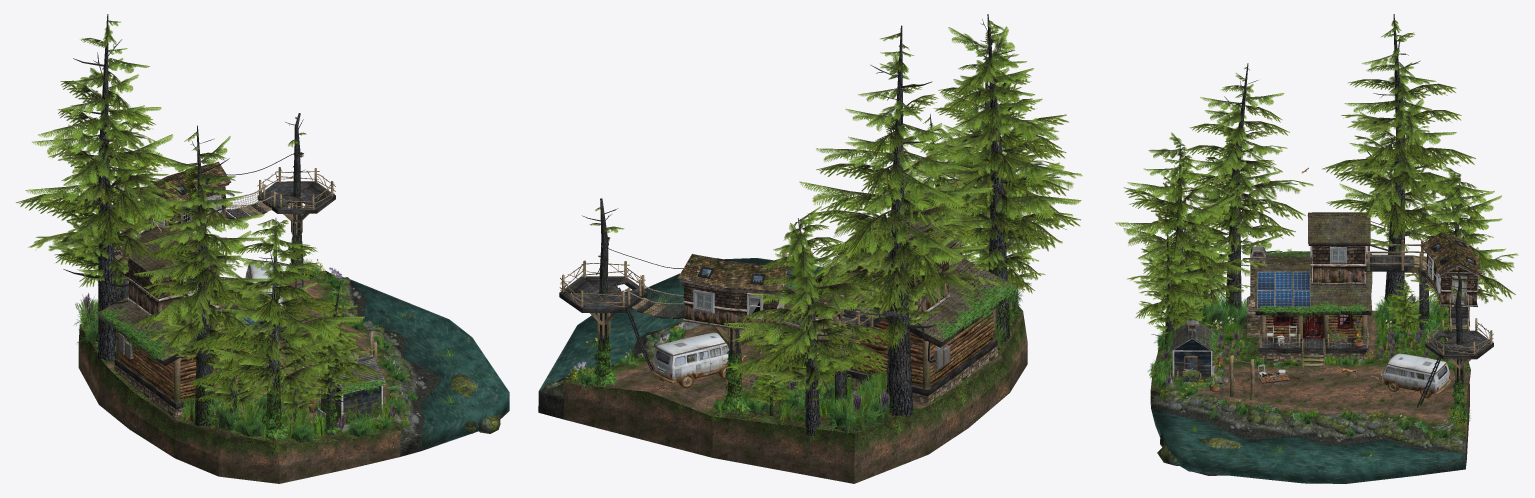
File: dae_diorama_-_forest_loner.glb
3 views of the same model, side by side, from view 1: azimuth 30°, elevation 25°; view 2: azimuth 150°, elevation 25°; view 3: azimuth 270°, elevation 25° (orthographic). The views are drawn at different scales.
Visible parts, largest first — view 1: pine_tree_leaf, land.002, river, pine_tree_bark, grass_4, wood_floor, roof_1, rock, vine_1, shed, trim_house, wood_pillar (+8 smaller); view 2: pine_tree_leaf, land.002, pine_tree_bark, grass_4, river, wood_floor, trim_house, wood_pillar, roof_1, wood_wall, mini_van, roof_2 (+7 smaller); view 3: pine_tree_leaf, land.002, river, grass_4, pine_tree_bark, roof_1, doors_windows, wood_floor, rock, flowers, wood_pillar, trim_house (+7 smaller).
Part boxes in pixels (bbox=[...]): pine_tree_leaf: bbox=[16, 20, 381, 413]; land.002: bbox=[78, 271, 508, 483]; river: bbox=[350, 279, 509, 450]; pine_tree_bark: bbox=[63, 14, 358, 439]; grass_4: bbox=[74, 260, 493, 442]; wood_floor: bbox=[98, 181, 335, 409]; roof_1: bbox=[97, 226, 281, 361]; rock: bbox=[335, 277, 500, 433]; vine_1: bbox=[99, 287, 385, 427]; shed: bbox=[154, 151, 385, 431]; trim_house: bbox=[121, 183, 229, 322]; wood_pillar: bbox=[114, 167, 377, 403]; pine_tree_leaf: bbox=[590, 20, 1082, 407]; land.002: bbox=[538, 285, 1027, 483]; pine_tree_bark: bbox=[582, 14, 1036, 436]; grass_4: bbox=[570, 269, 1022, 434]; river: bbox=[539, 258, 824, 390]; wood_floor: bbox=[559, 276, 1015, 396]; trim_house: bbox=[679, 242, 956, 331]; wood_pillar: bbox=[559, 245, 996, 389]; roof_1: bbox=[804, 219, 1017, 342]; wood_wall: bbox=[839, 310, 994, 387]; mini_van: bbox=[652, 332, 728, 388]; roof_2: bbox=[677, 254, 791, 291]; pine_tree_leaf: bbox=[1115, 20, 1518, 333]; land.002: bbox=[1150, 310, 1470, 483]; river: bbox=[1151, 408, 1465, 483]; grass_4: bbox=[1147, 293, 1470, 456]; pine_tree_bark: bbox=[1149, 14, 1473, 415]; roof_1: bbox=[1254, 212, 1372, 312]; doors_windows: bbox=[1233, 221, 1478, 378]; wood_floor: bbox=[1255, 254, 1493, 401]; rock: bbox=[1157, 390, 1462, 475]; flowers: bbox=[1149, 249, 1467, 458]; wood_pillar: bbox=[1229, 240, 1493, 399]; trim_house: bbox=[1308, 244, 1480, 306].
Size of the model in its own units: 28.49 by 26.53 by 28.61.
Materials: 28 (28 with a texture image).
